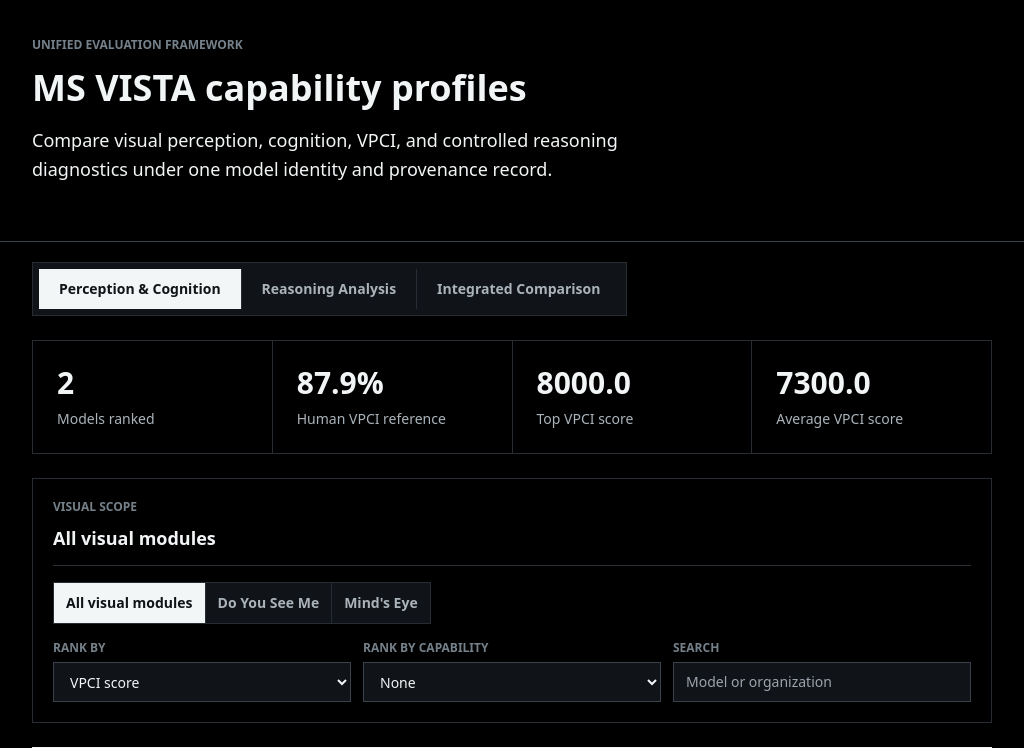
Test: leaderboard filter contracts › keeps capability ranking valid when capabilities are selected or cleared
Select "Task spread, lower is better" in the dropdown labelled "Rank by" at coordinates (202, 682), box [53,662,351,702]
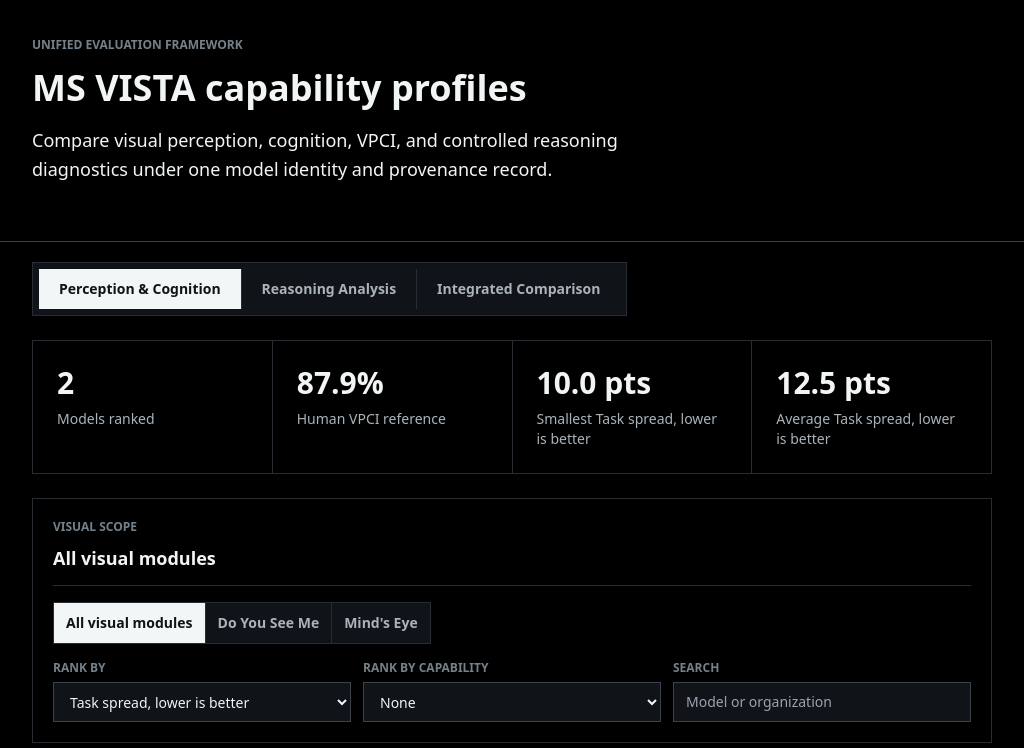
Select "P · Shape Discrimination" in the dropdown labelled "Rank by capability" at coordinates (512, 702), box [363,682,661,722]
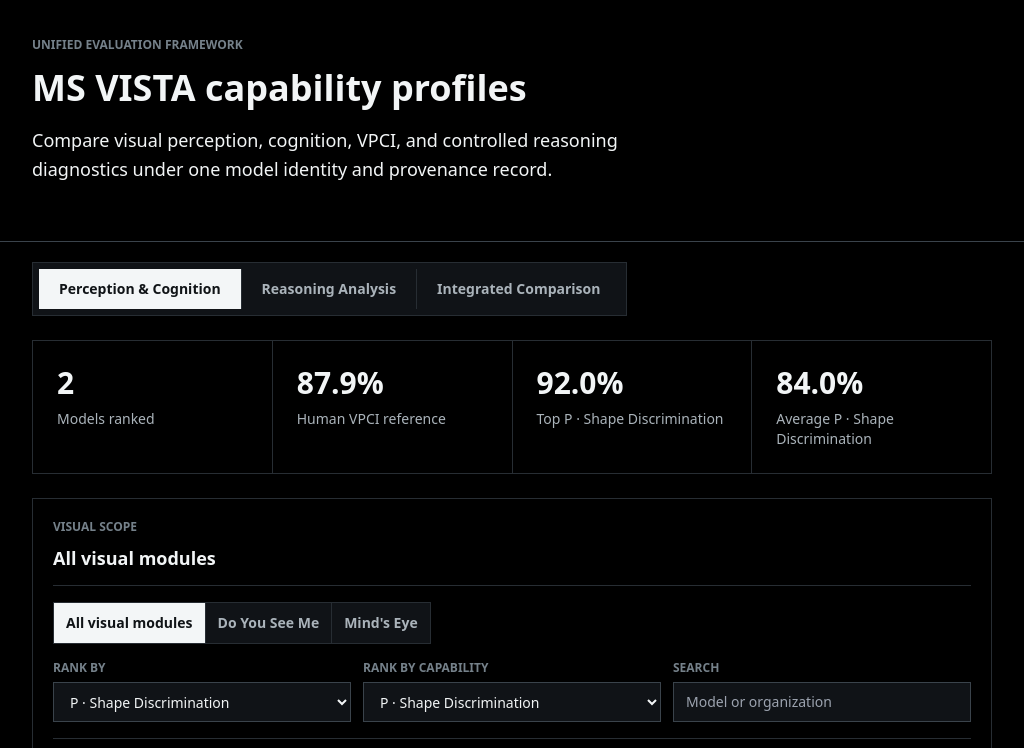
Select "None" in the dropdown labelled "Rank by capability" at coordinates (512, 702), box [363,682,661,722]
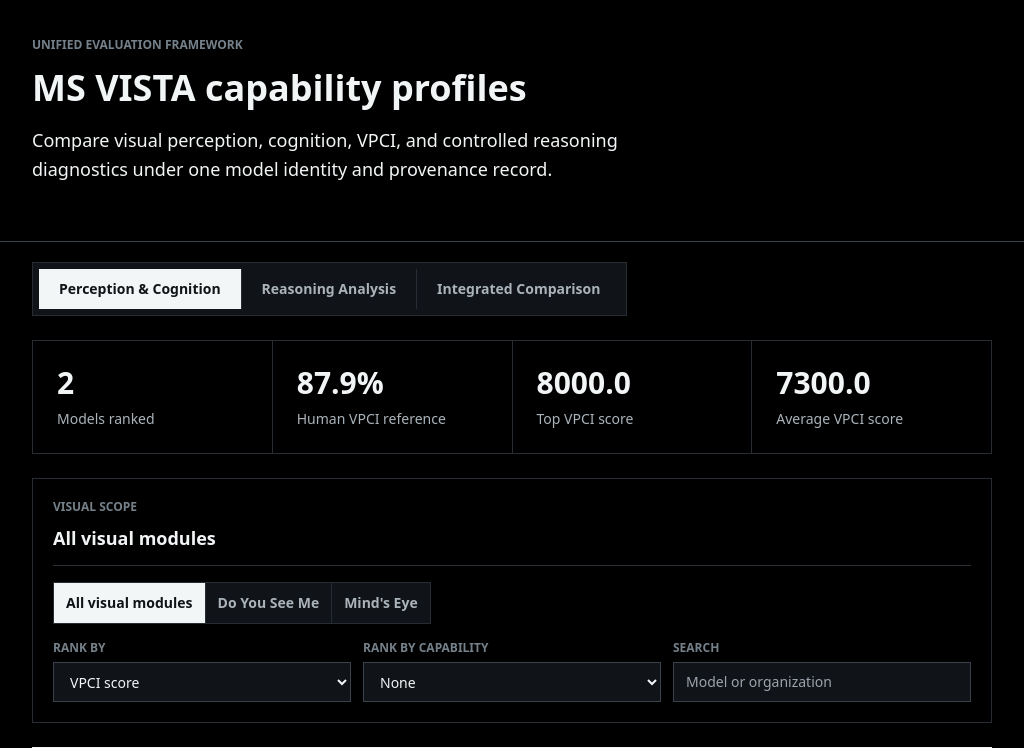
Expected: the column heading "P · Shape Discrimination" is not shown
Click the button "Do You See Me" at coordinates (269, 603), box [206,583,332,623]
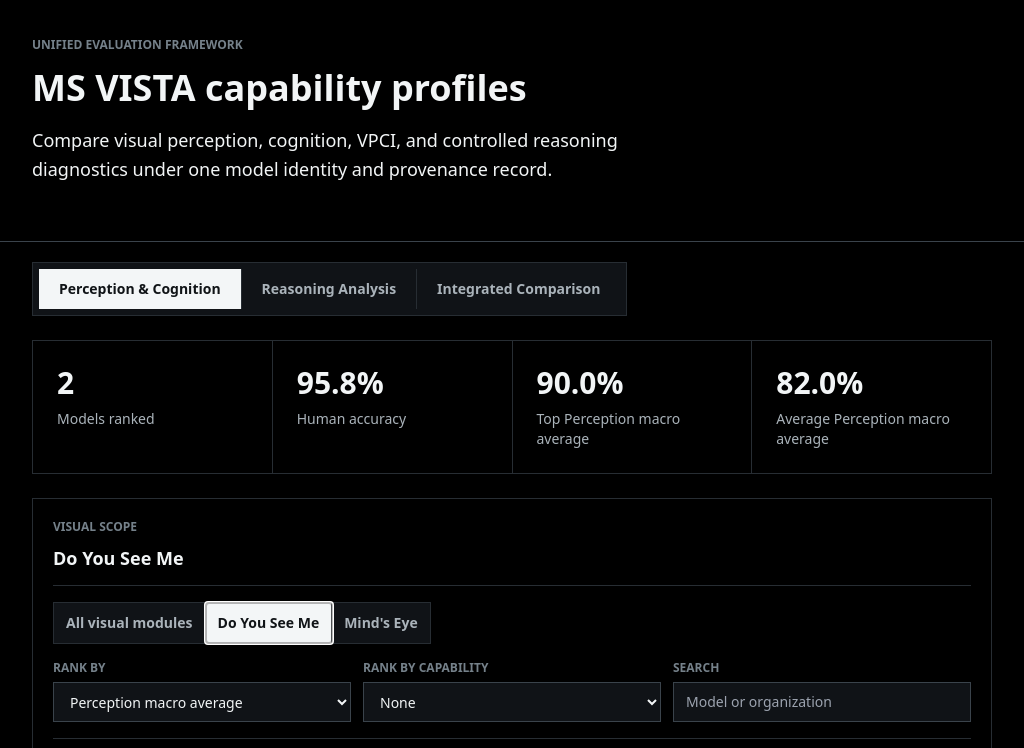
Expected: the text "95.8%" is shown, [297,362,384,402]
Click the button "Mind's Eye" at coordinates (381, 623), box [332,603,430,643]
(page scrolled)
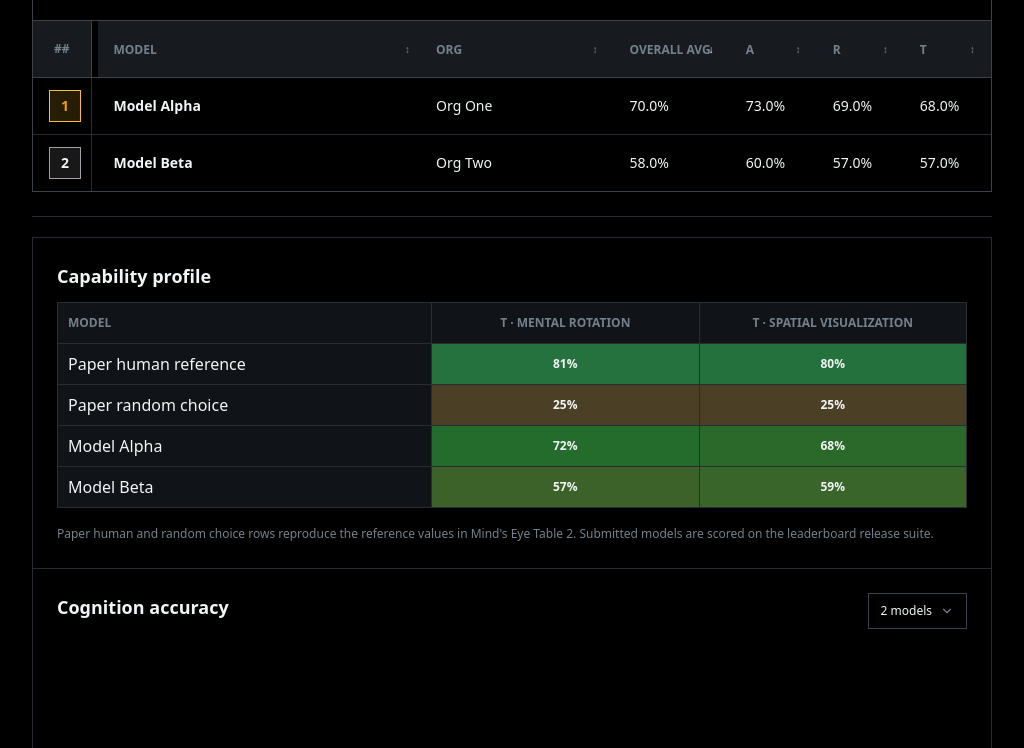
Expected: the text "Paper human reference" is shown, [58,344,431,384]
